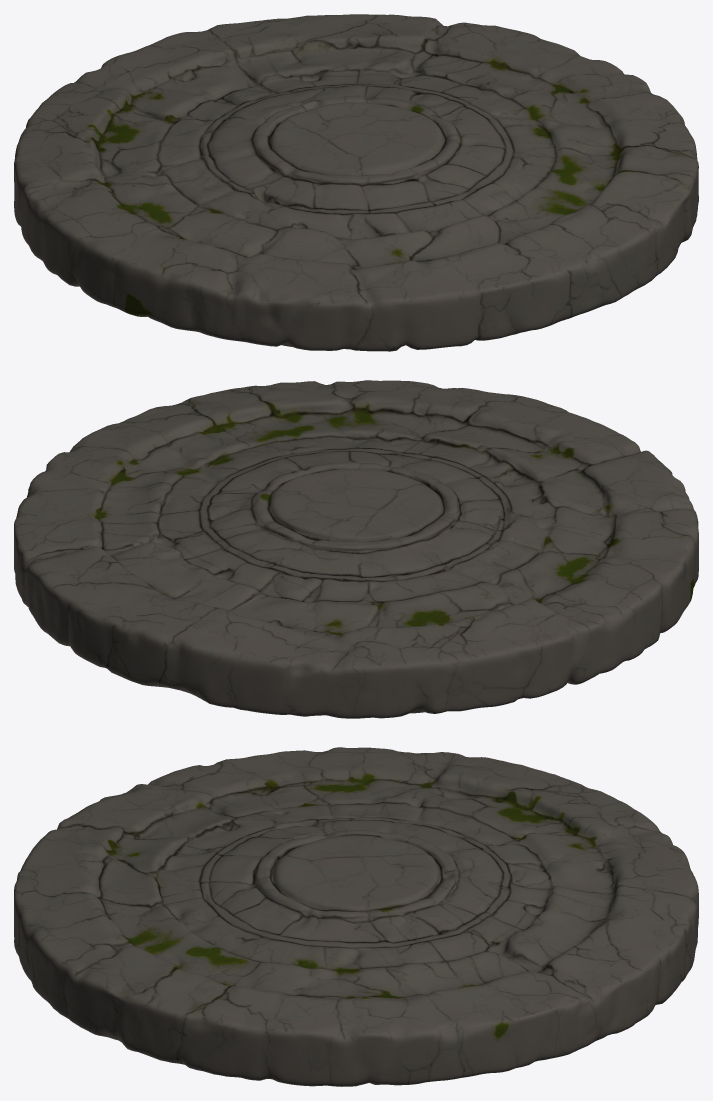
Rendered from GroundLayer2.fbx.
3 views of the same model, one above another, from view 1: azimuth 30°, elevation 25°; view 2: azimuth 150°, elevation 25°; view 3: azimuth 270°, elevation 25° (orthographic).
Parts seen in each view (by area): view 1: tripo_node_8a3aca1c; view 2: tripo_node_8a3aca1c; view 3: tripo_node_8a3aca1c.
Boxes of the visible parts, x1,y1,x2,y2 form: tripo_node_8a3aca1c: [14, 14, 698, 351]; tripo_node_8a3aca1c: [14, 380, 698, 718]; tripo_node_8a3aca1c: [14, 747, 698, 1086].
Bounding box in the file's own units: 0.9964 × 0.1418 × 0.9996.
1 material, 1 textured.
